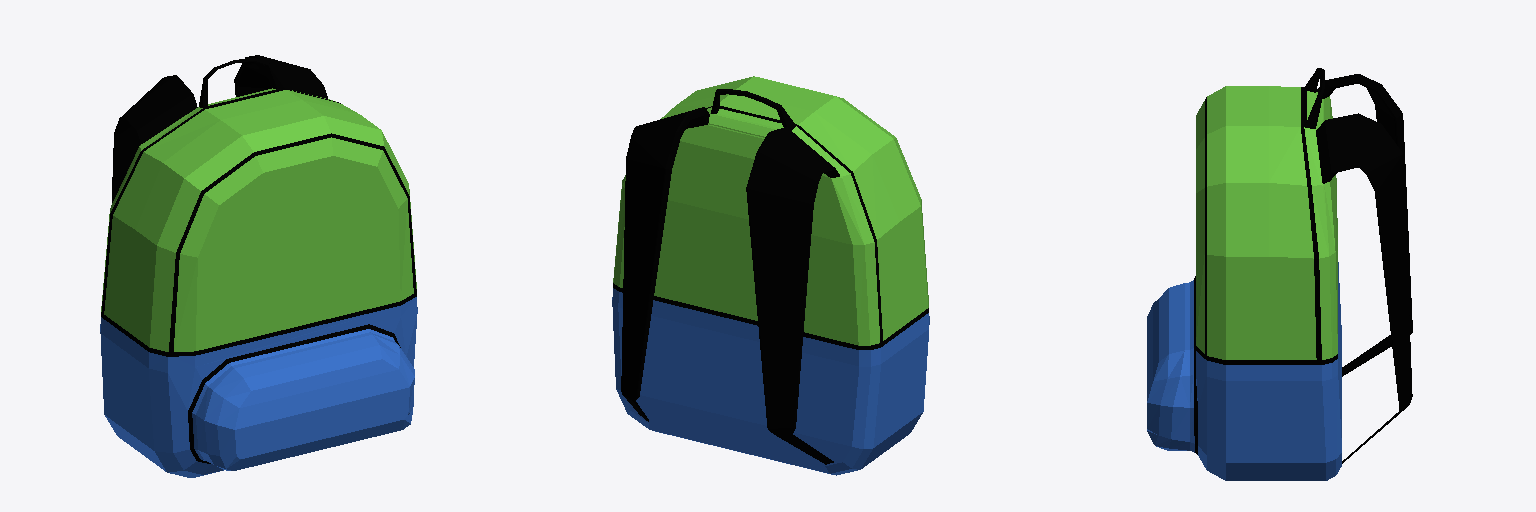
The model's file is backpack_school.obj.
The picture shows the model from 3 angles: view 1: azimuth 30°, elevation 25°; view 2: azimuth 150°, elevation 25°; view 3: azimuth 270°, elevation 25°; orthographic projection.
Visible parts, largest first — view 1: 2, 0, 1; view 2: 2, 0, 1; view 3: 2, 0, 1.
Boxes of the visible parts, box(x1,y1,x2,y2) form: 2: box(101, 88, 416, 351); 0: box(100, 297, 417, 477); 1: box(101, 55, 416, 463); 2: box(613, 76, 928, 345); 0: box(612, 288, 929, 475); 1: box(613, 89, 928, 464); 2: box(1196, 86, 1337, 359); 0: box(1147, 262, 1341, 480); 1: box(1194, 68, 1412, 463).
Bounding box in the file's own units: 0.4233 × 0.543 × 0.3626.